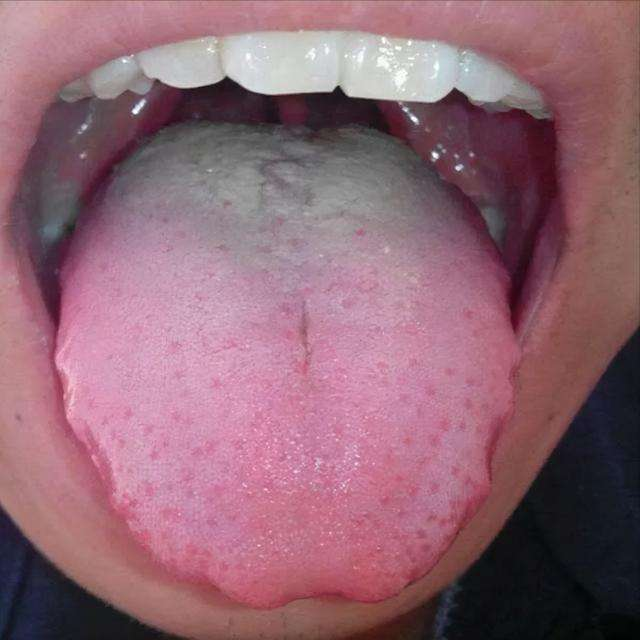baitaishe: (56, 119, 521, 611)
chihenshe: (60, 413, 120, 509), (473, 405, 520, 489)
hongdianshe: (347, 221, 367, 241)
hongshe: (56, 119, 521, 611)
liewenshe: (291, 298, 319, 375)
